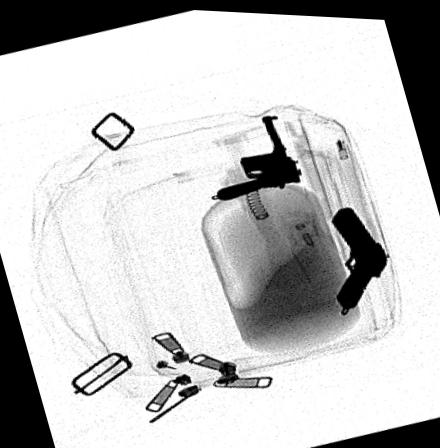Gun: (214, 110, 302, 197), (329, 201, 388, 305)
